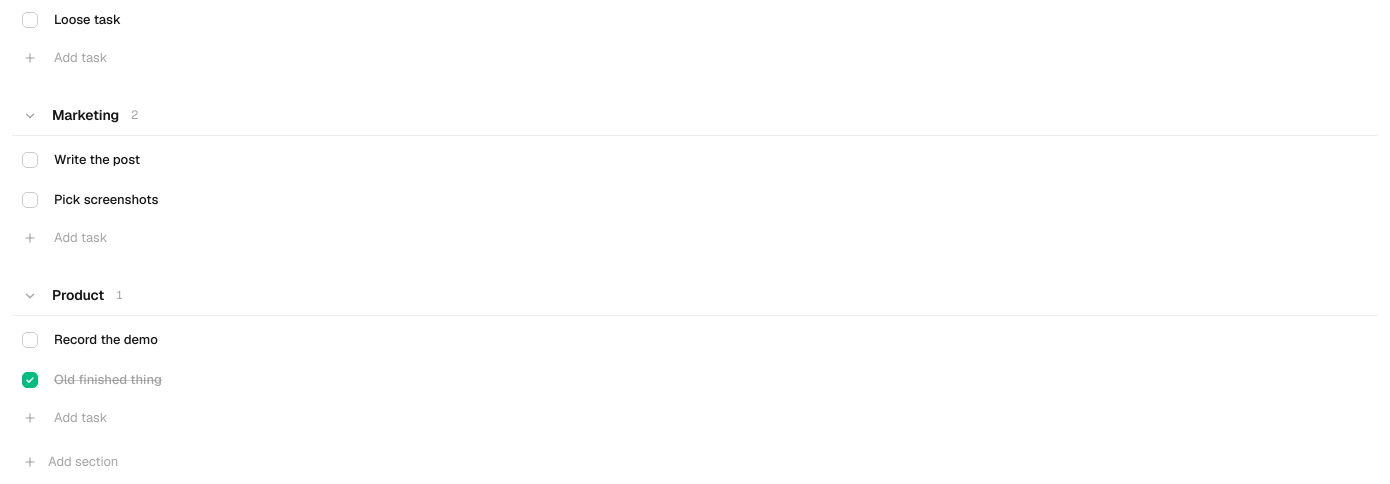
Test: sections › renames a section in place
The image size is (1390, 484).
Click the button "Marketing": point(86, 115) [48,106,123,125]
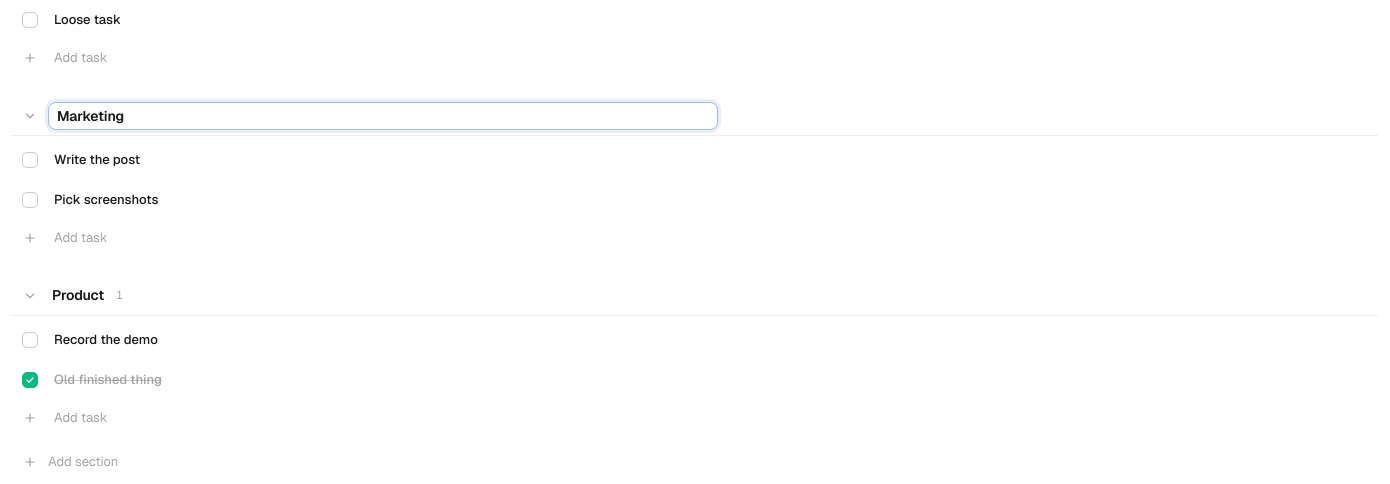
Replace the text in the field named "Section name" with "Launch": point(383, 116) [48,102,718,130]
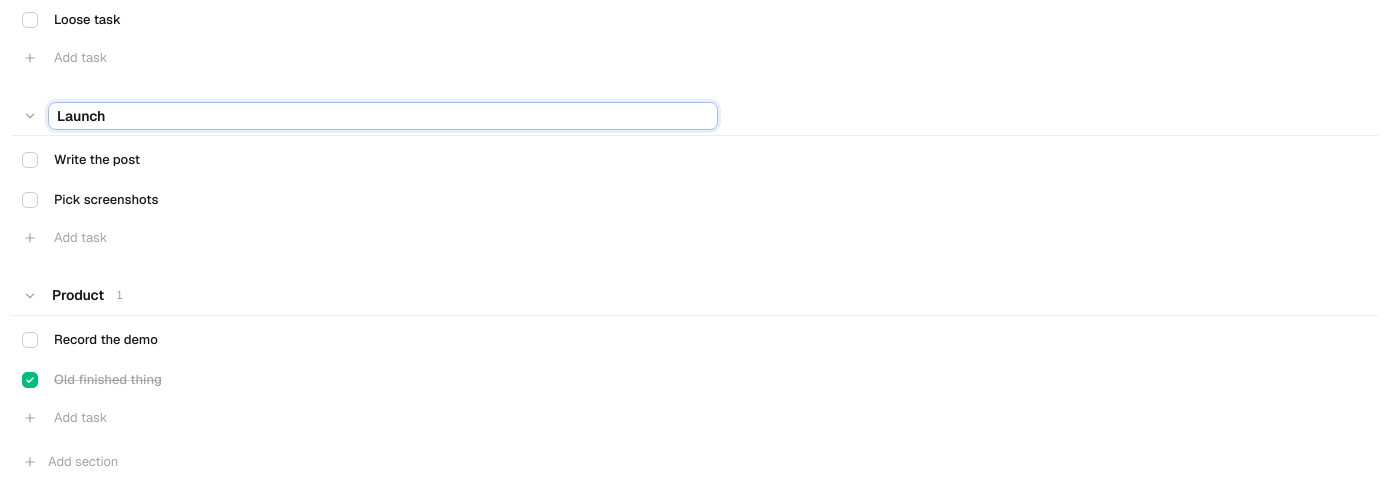
Press Enter in the field named "Section name", box [48,102,718,130]
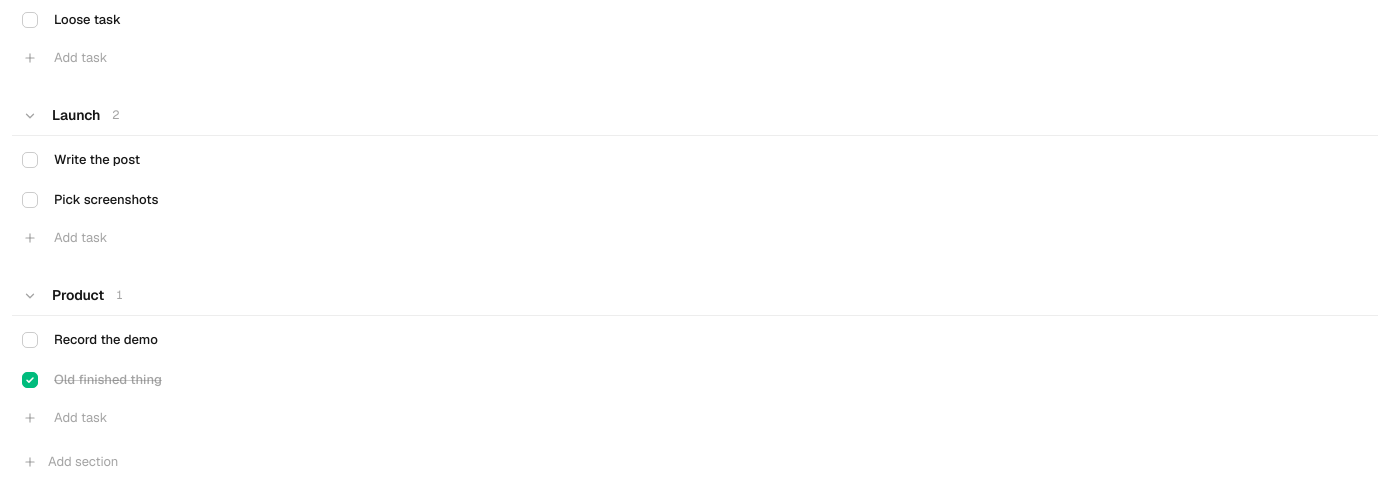
Check: the button "Launch" is shown, box [48,106,104,125]
